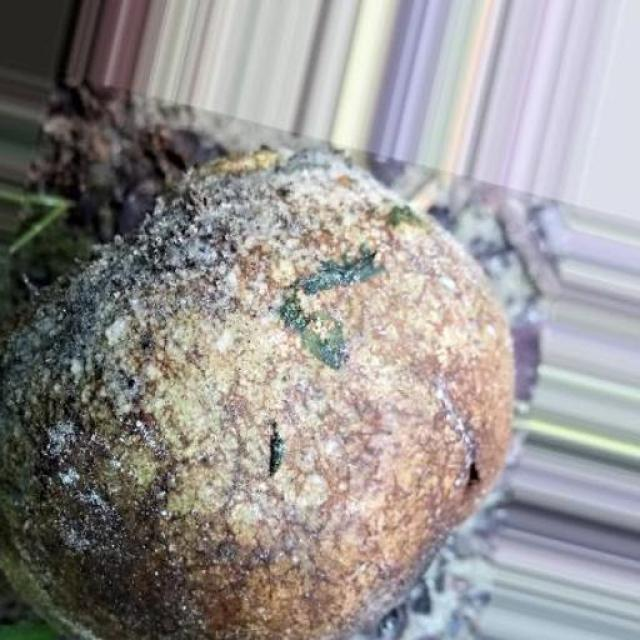Phytopthora: (0, 85, 511, 640)
